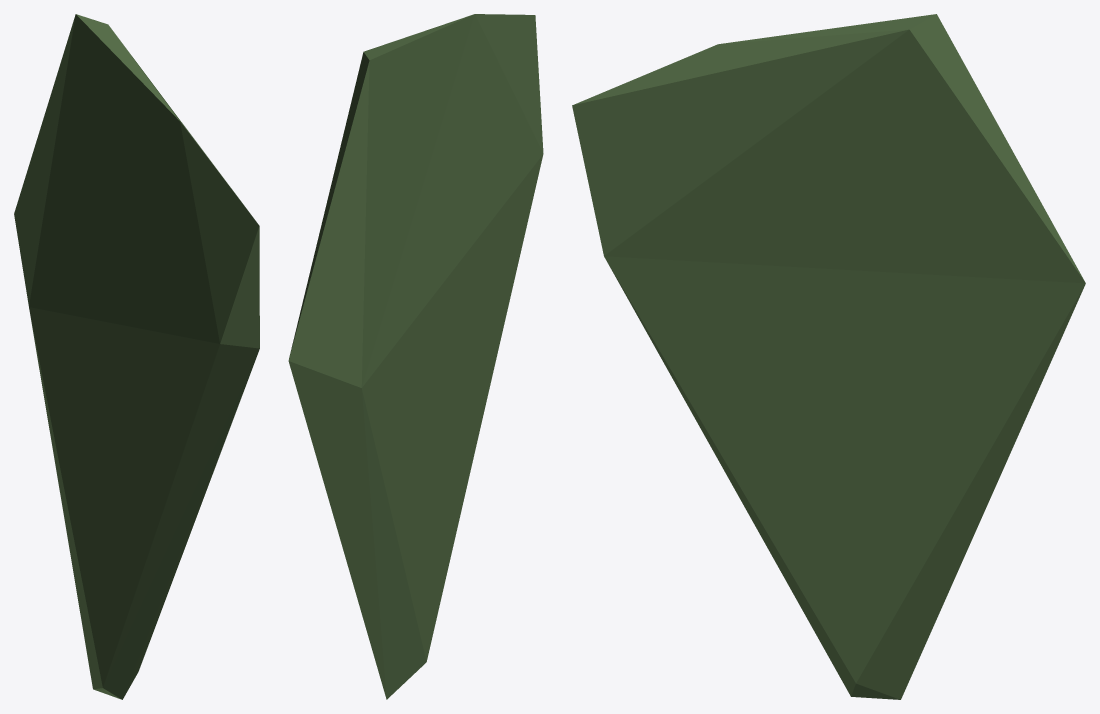
Rendered from Cactus_4.lod4.glb.
3 views of the same model, side by side, from view 1: azimuth 30°, elevation 25°; view 2: azimuth 150°, elevation 25°; view 3: azimuth 270°, elevation 25° (orthographic). The views are drawn at different scales.
Visible parts, largest first — view 1: Cactus_4; view 2: Cactus_4; view 3: Cactus_4.
Boxes of the visible parts, x1,y1,x2,y2 form: Cactus_4: [14, 14, 259, 699]; Cactus_4: [288, 14, 543, 699]; Cactus_4: [572, 14, 1085, 699].
Size of the model in its own units: 0.0934 by 1.37 by 0.9292.
